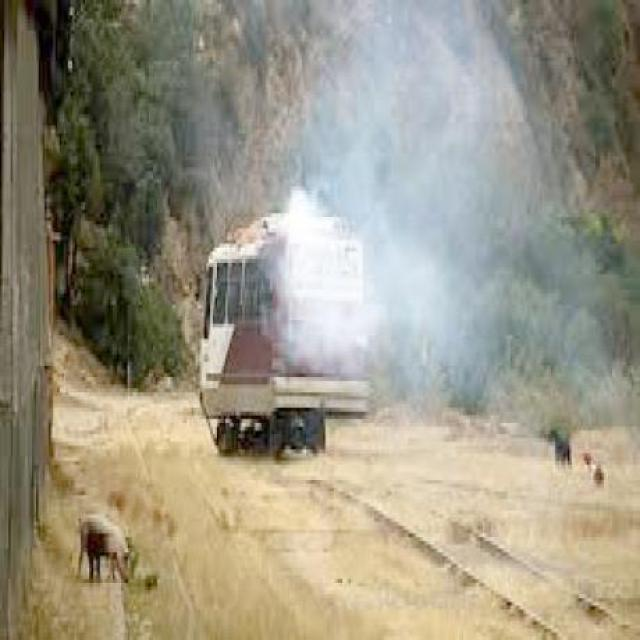Smoke: (277, 5, 542, 398)
